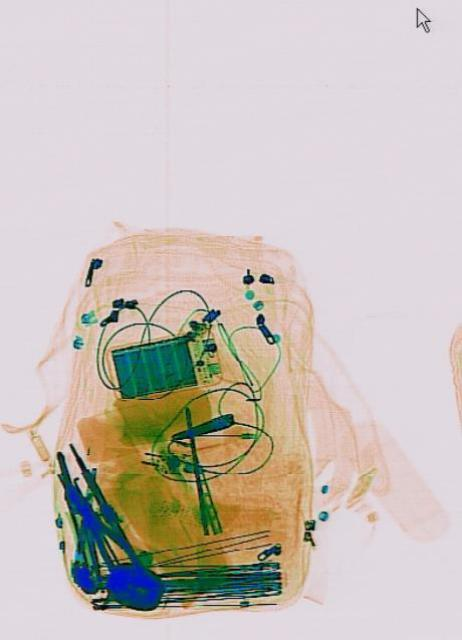Pliers: (40, 456, 145, 602)
